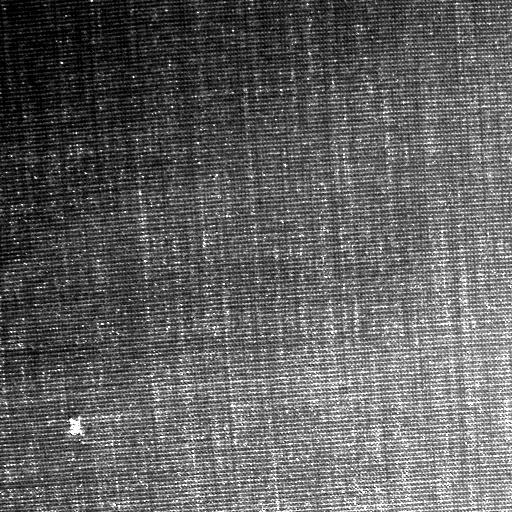fabric_hole: (60, 410, 90, 440)
